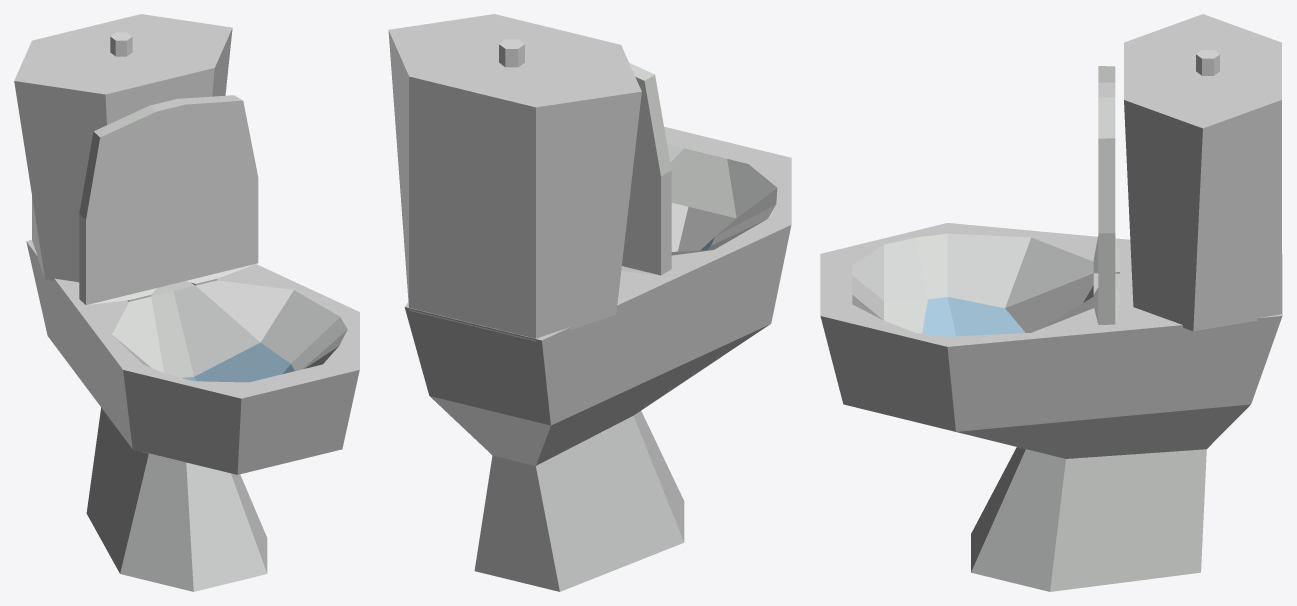
Rendered from Toilet.fbx.
3 renders of one model, left to right at view 1: azimuth 30°, elevation 25°; view 2: azimuth 150°, elevation 25°; view 3: azimuth 270°, elevation 25°, orthographic. The views are drawn at different scales.
Parts seen in each view (by area): view 1: Toilet; view 2: Toilet; view 3: Toilet.
Part boxes in pixels (x1,y1,x2,y2): Toilet: (14, 14, 359, 591); Toilet: (388, 14, 791, 591); Toilet: (820, 14, 1282, 591).
Bounding box in the file's own units: 77.7 × 146 × 122.
